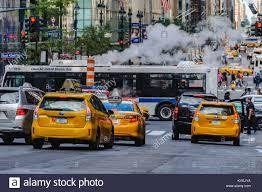smoke: (121, 33, 237, 66)
